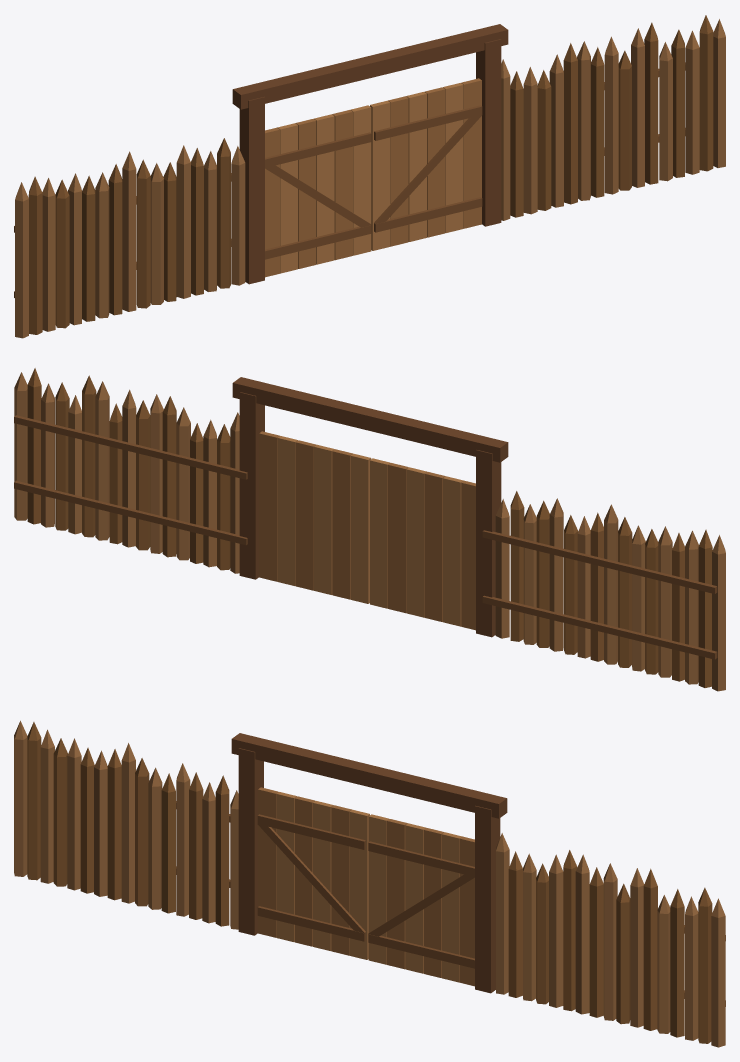
File: prop-palisade-gate.glb
3 renders of one model, top to bottom at view 1: azimuth 30°, elevation 25°; view 2: azimuth 150°, elevation 25°; view 3: azimuth 330°, elevation 25°, orthographic.
Visible parts, largest first — view 1: PalisadeGate; view 2: PalisadeGate; view 3: PalisadeGate.
Part boxes in pixels (x1,y1,x2,y2): PalisadeGate: (14, 15, 725, 338); PalisadeGate: (14, 368, 725, 691); PalisadeGate: (14, 720, 725, 1047).
Size of the model in its own units: 14.2 by 3.64 by 0.37.
